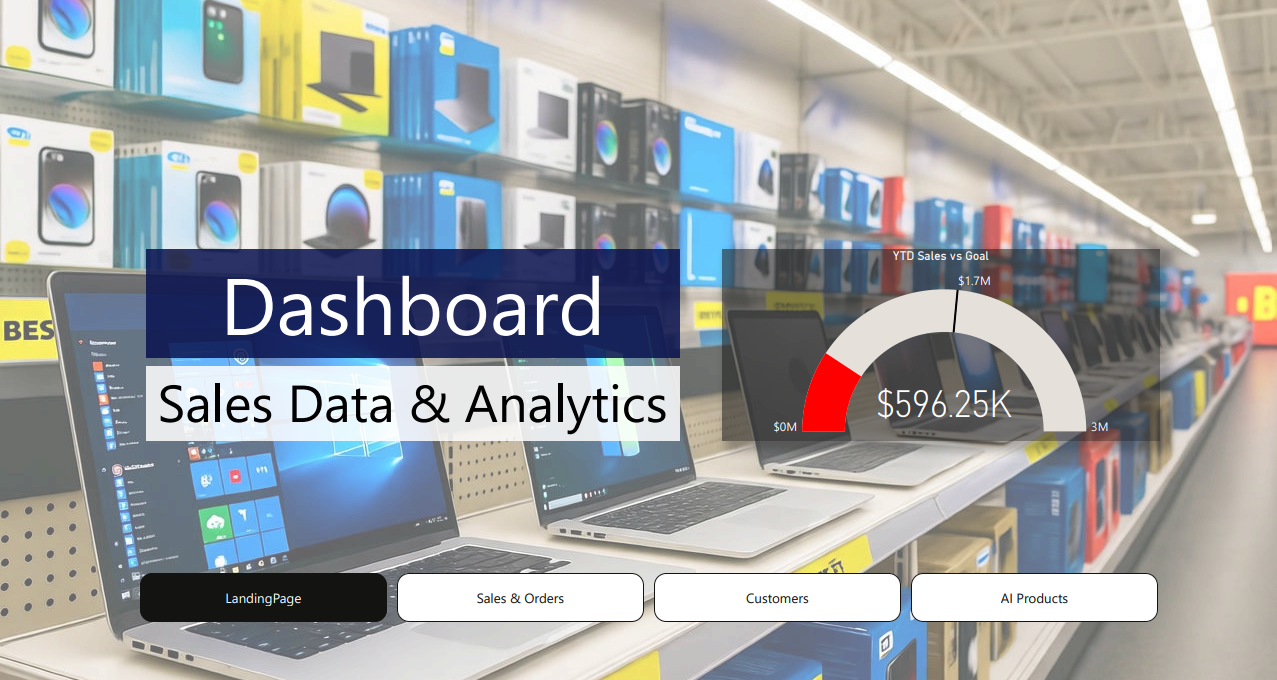

The dashboard page shown, as its layout file describes it:
{"tool":"powerbi","page":{"name":"LandingPage","canvas":[1280,720],"ordinal":0},"visuals":[{"type":"pageNavigator","box":[139.9,574.8,1020,49.2],"z":0},{"type":"textbox","title":"Dashboard","box":[146.3,251.4,533.3,108.6],"z":1000},{"type":"textbox","title":"Sales Data & Analytics","box":[146.3,368.1,533.3,74.5],"z":2000},{"type":"gauge","title":"YTD Sales vs Goal","fields":{"Y":["orders.YTD Sales"],"TargetValue":["customer profiles.Target Gauge"],"MaxValue":["Sum(orders.Total Amount)"]},"box":[721.8,251.4,438.1,191.2],"z":3000}]}

Visuals, with their boxes on the page's 1280x720 design canvas (x1, y1, x2, y2). These are canvas units, not pixel positions in the 1277x680 screenshot, which may show the page scaled, cropped or inside an application window:
pageNavigator: x1=140 y1=575 x2=1160 y2=624
"Dashboard" textbox: x1=146 y1=251 x2=680 y2=360
"Sales Data & Analytics" textbox: x1=146 y1=368 x2=680 y2=443
"YTD Sales vs Goal" gauge: x1=722 y1=251 x2=1160 y2=443
